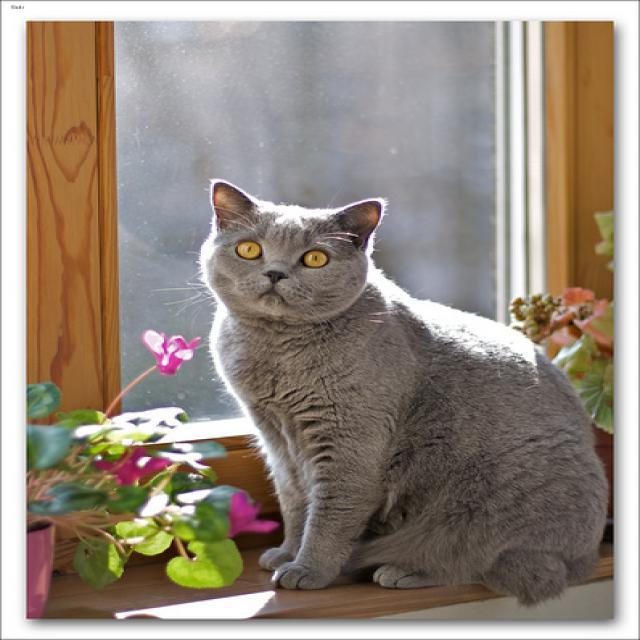British_Shorthair: (197, 175, 391, 330)
